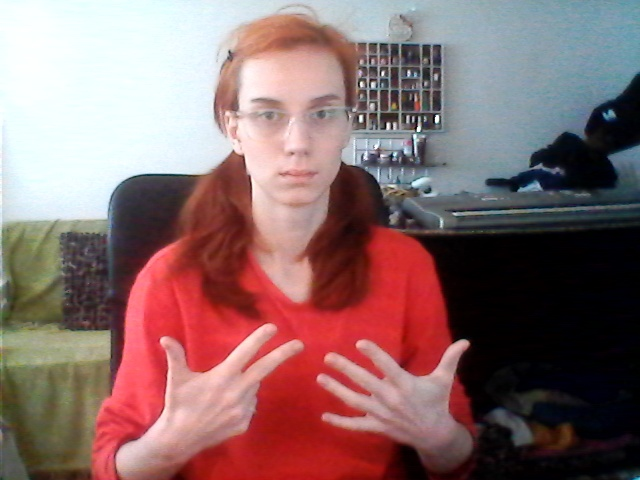osem: (151, 319, 473, 445)
